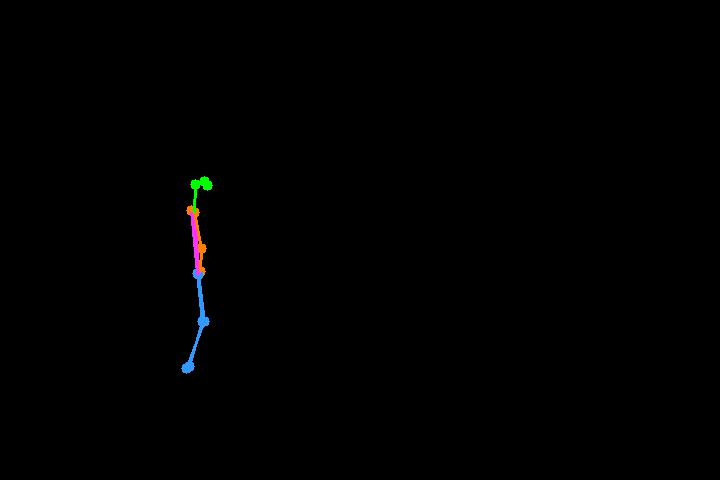normal: (162, 160, 231, 384)
